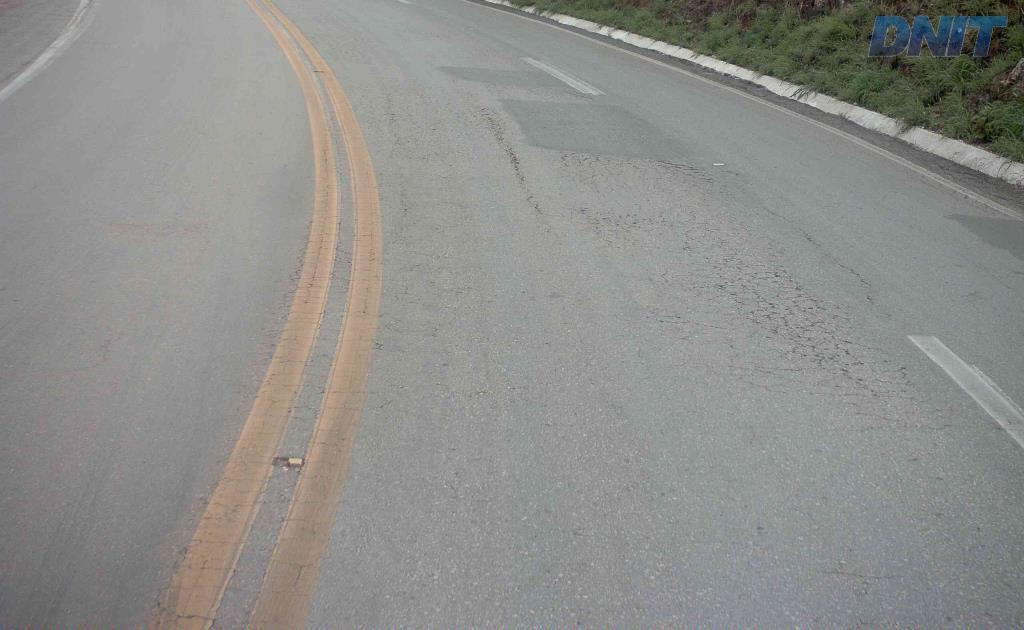crack: (653, 159, 713, 184)
